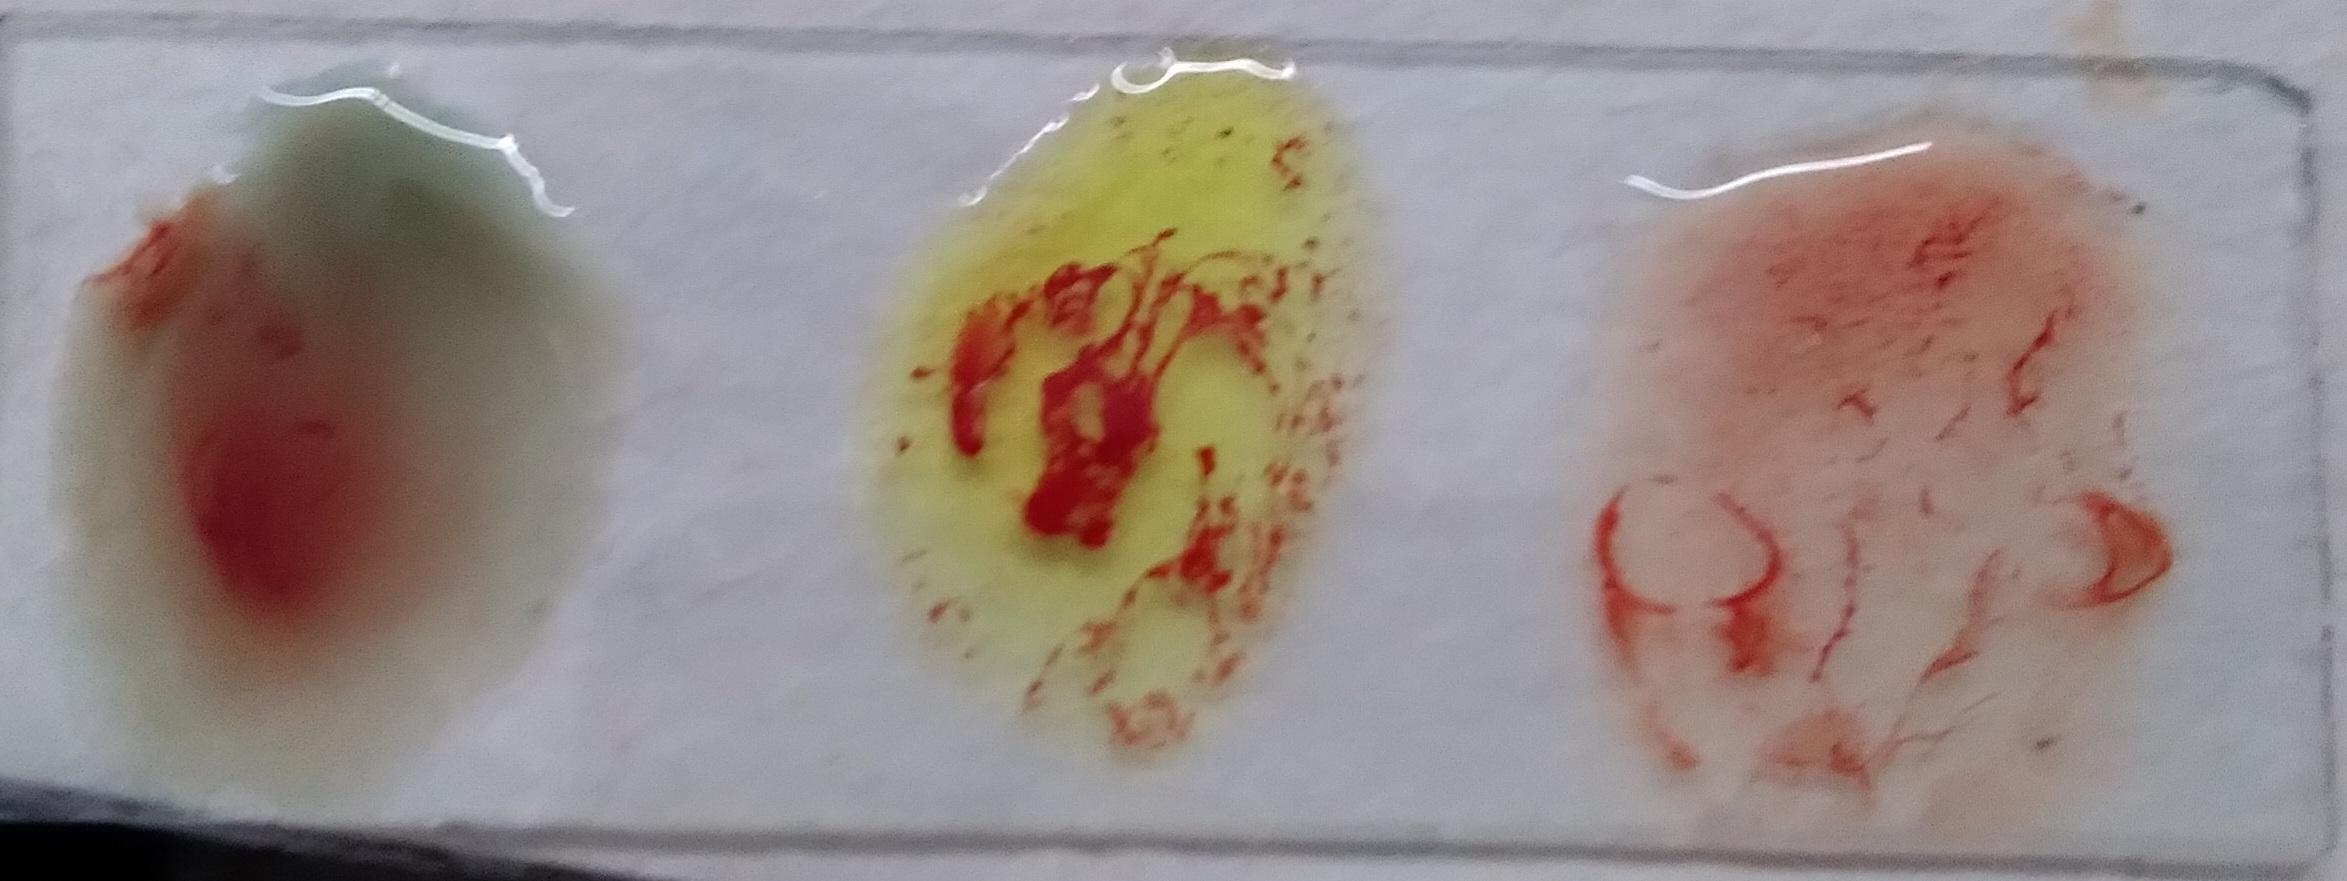B: (971, 135, 1464, 808)
D: (172, 72, 756, 716)
